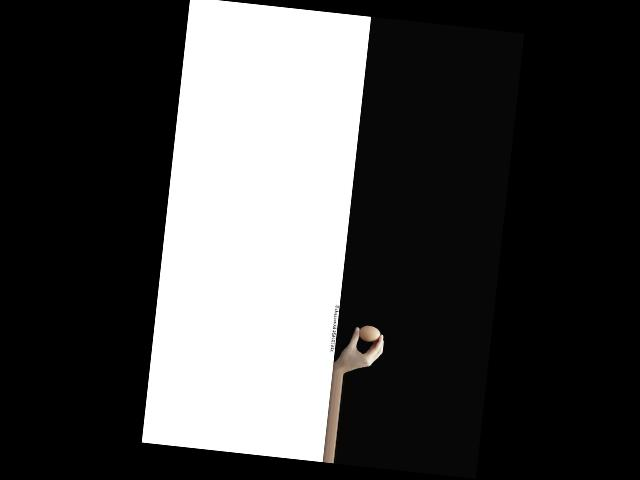egg: (358, 324, 381, 342)
